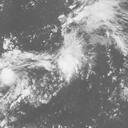cyclone: (56, 31, 91, 84)
